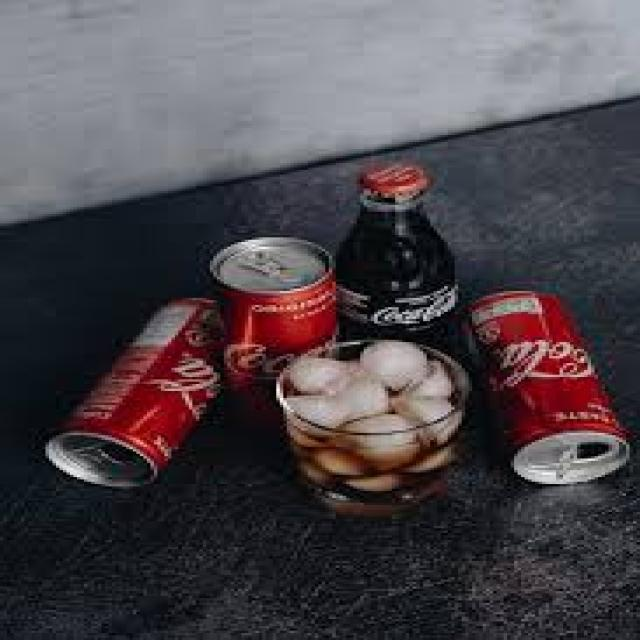Cans: (42, 291, 248, 498), (454, 284, 640, 489), (196, 230, 357, 402)
